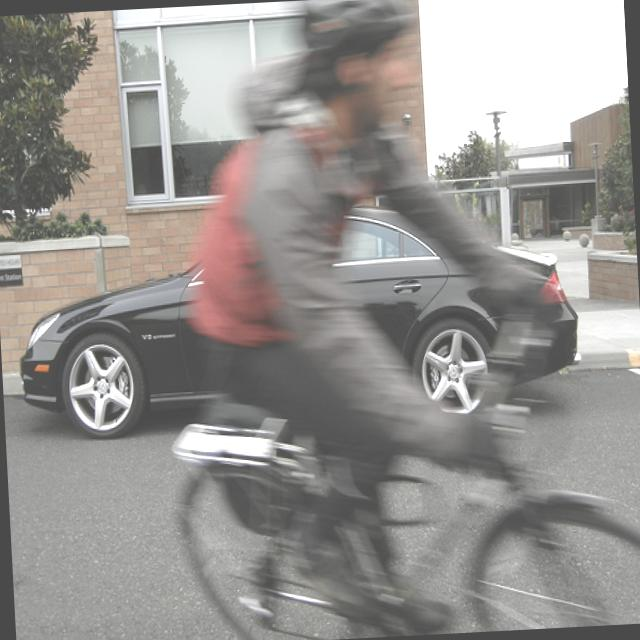Vehicle: (10, 195, 582, 442)
